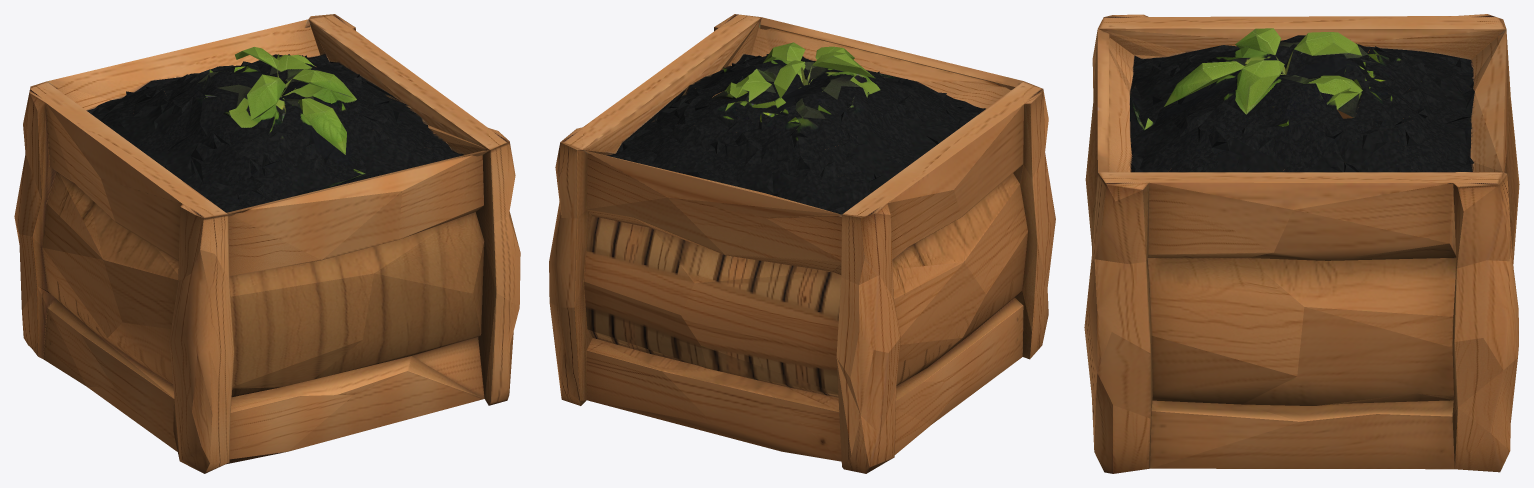
File: compost_bin.glb
The picture shows the model from 3 angles, left to right: view 1: azimuth 30°, elevation 25°; view 2: azimuth 150°, elevation 25°; view 3: azimuth 270°, elevation 25°; orthographic projection. The views are drawn at different scales.
Bounding box in the file's own units: 1.9 × 1.72 × 1.9.
1 material, 1 textured.
